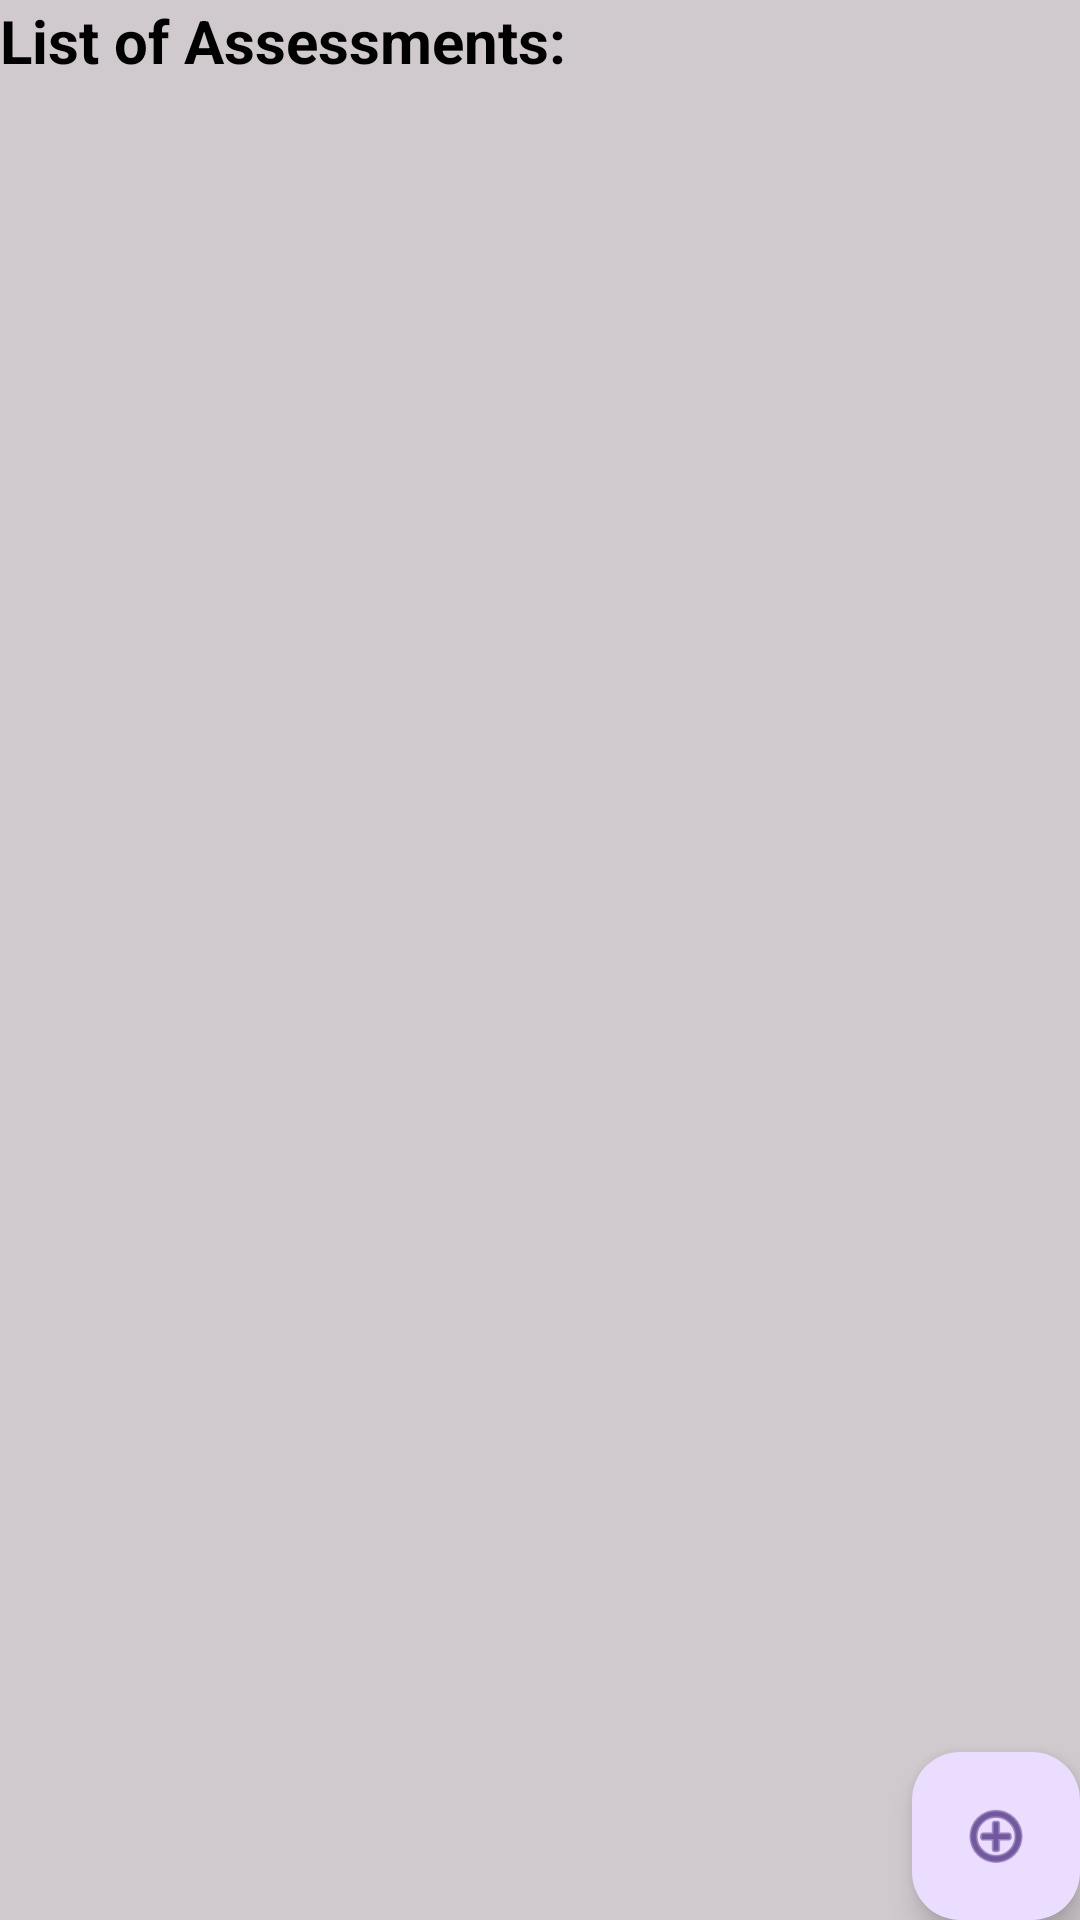

Where icons sit on this 1080px x 1920px app screen, as region(x1, y1, x2, y2):
Assessment Add Floating Button: region(912, 1752, 1080, 1920)
